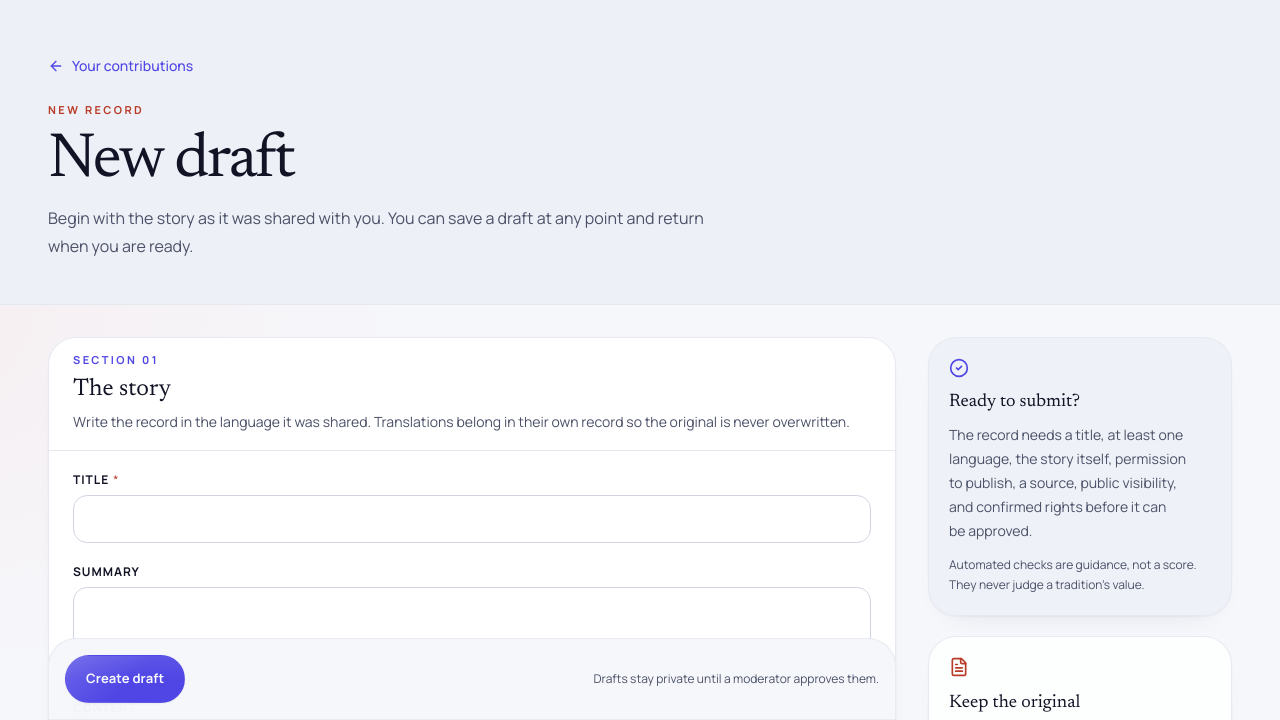
Scenario: DraftEditorPage › blocks saving when no language is provided
Type "Title only" into the field labelled "Title*".
click(472, 520); type("Title only")  # box [73,496,871,544]
(page scrolled)
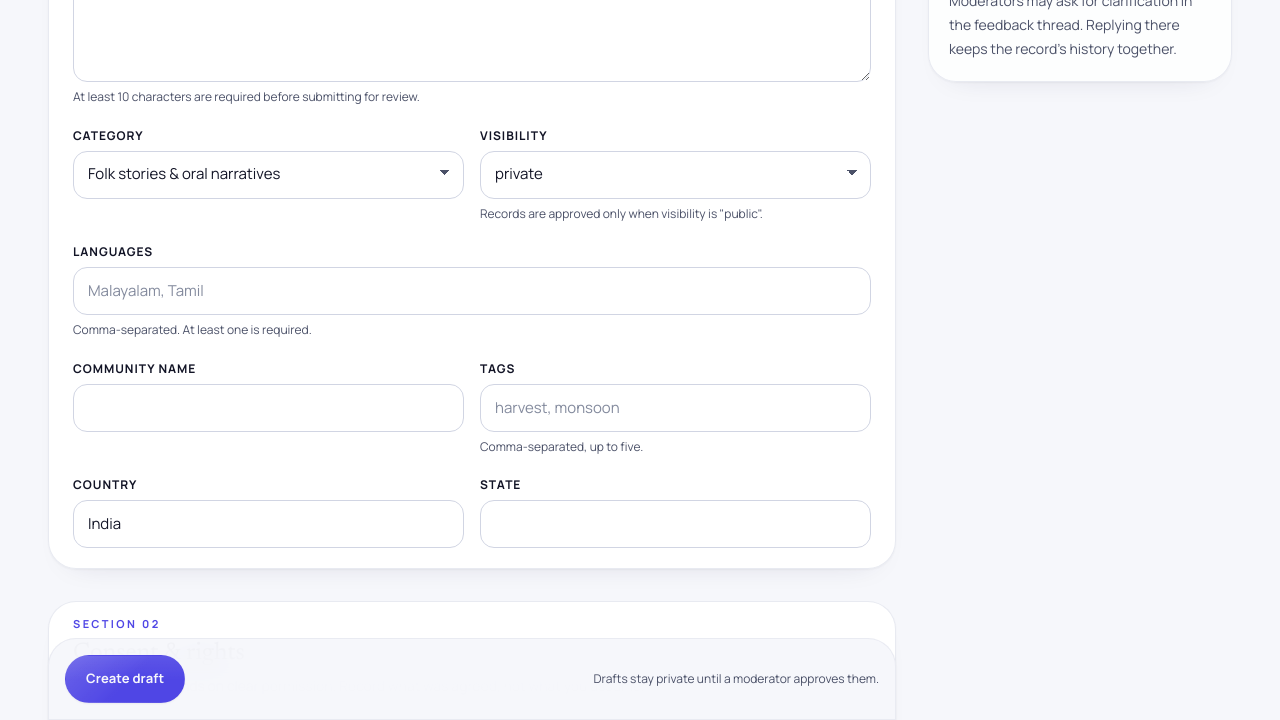
Submit the form named "create draft"
(page scrolled)
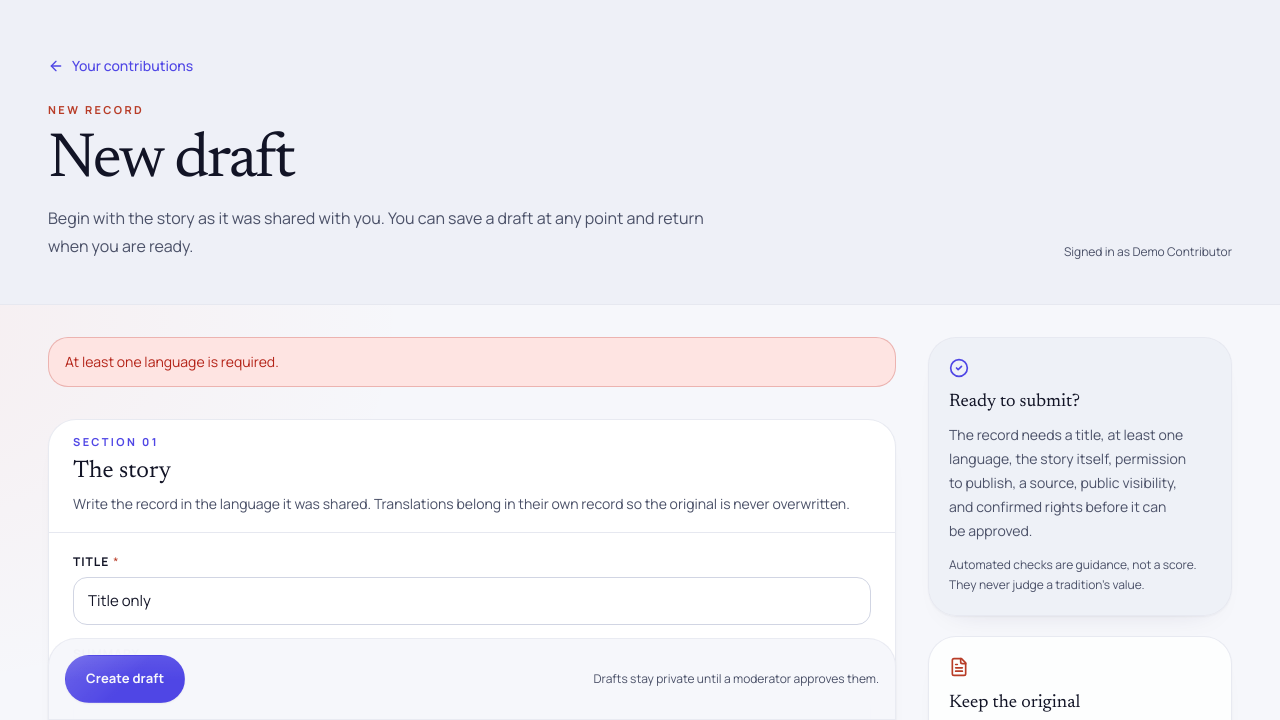
Now the message shows "At least one language", box [65,352,279,372]
